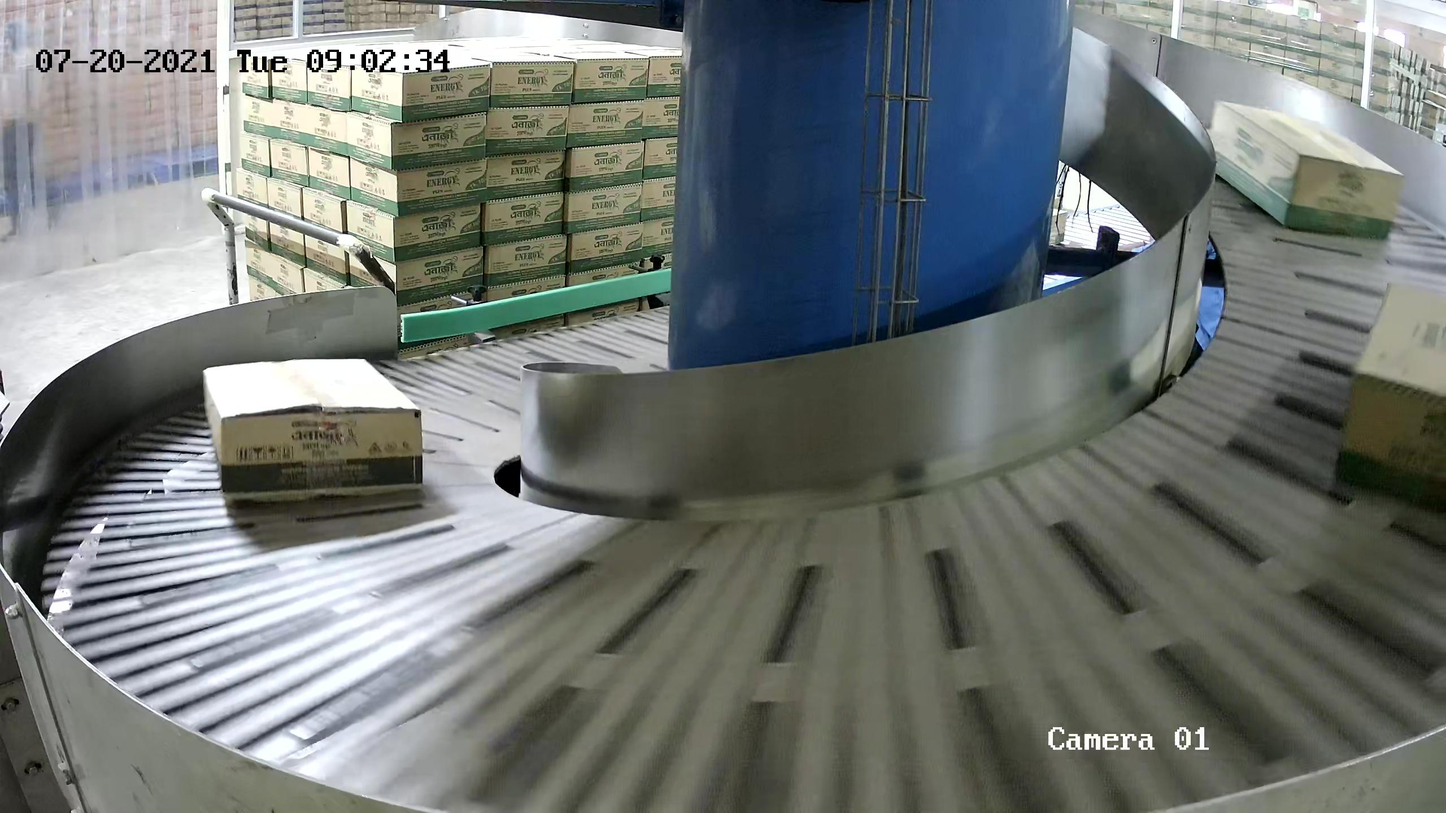Box: (202, 358, 424, 499), (1206, 99, 1408, 243), (1328, 277, 1446, 519)
